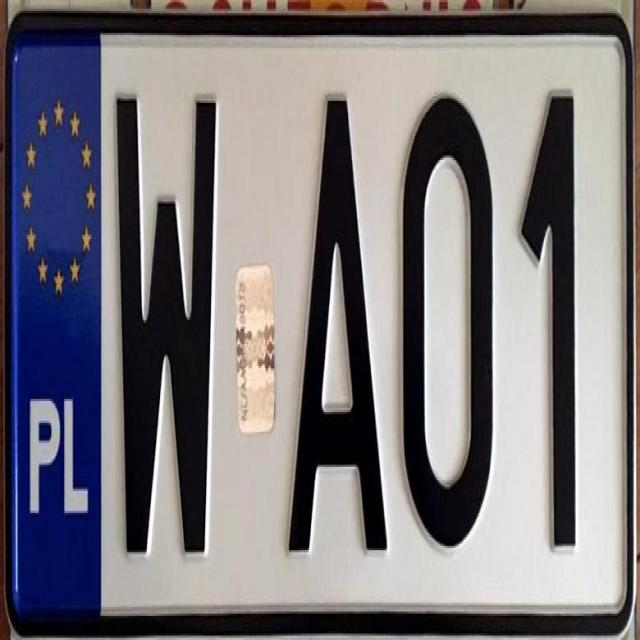pl_license_plate: (11, 31, 624, 605)
